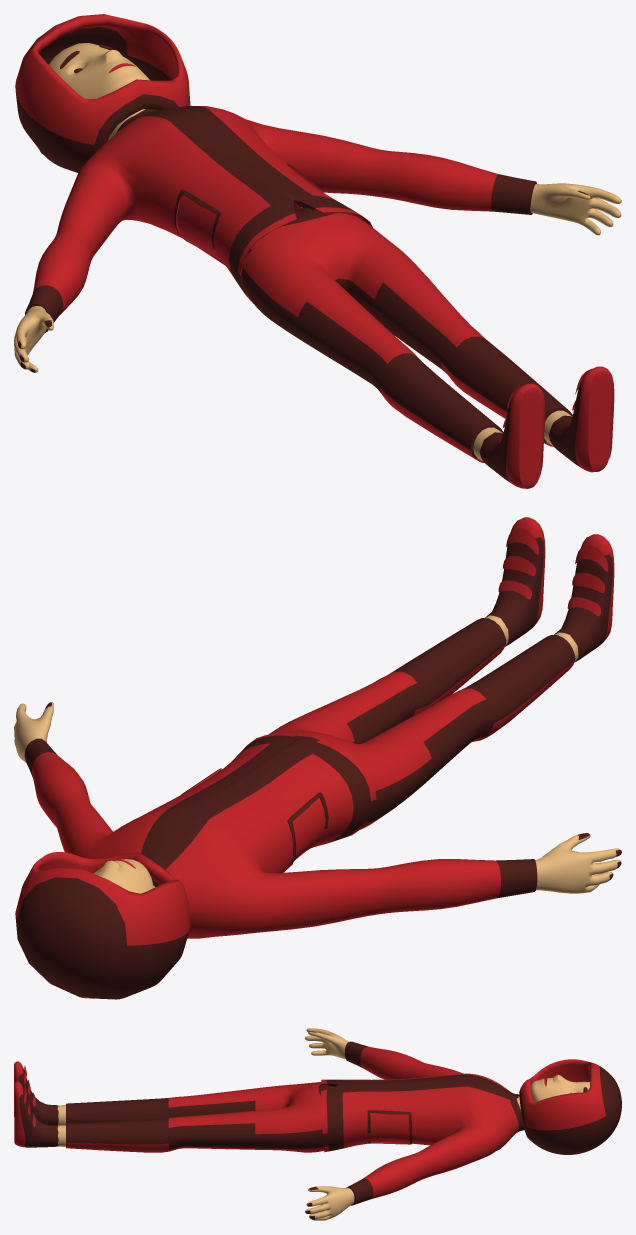
File: Pieces - Nathan.fbx
3 renders of one model, top to bottom at view 1: azimuth 30°, elevation 25°; view 2: azimuth 150°, elevation 25°; view 3: azimuth 270°, elevation 25°, orthographic. The views are drawn at different scales.
Visible parts, largest first — view 1: JumpSuit.001; view 2: JumpSuit.001; view 3: JumpSuit.001.
Part boxes in pixels (x1,y1,x2,y2): JumpSuit.001: (14, 14, 621, 488); JumpSuit.001: (14, 517, 621, 999); JumpSuit.001: (14, 1028, 621, 1220).
Bounding box in the file's own units: 123 × 26.69 × 179.
